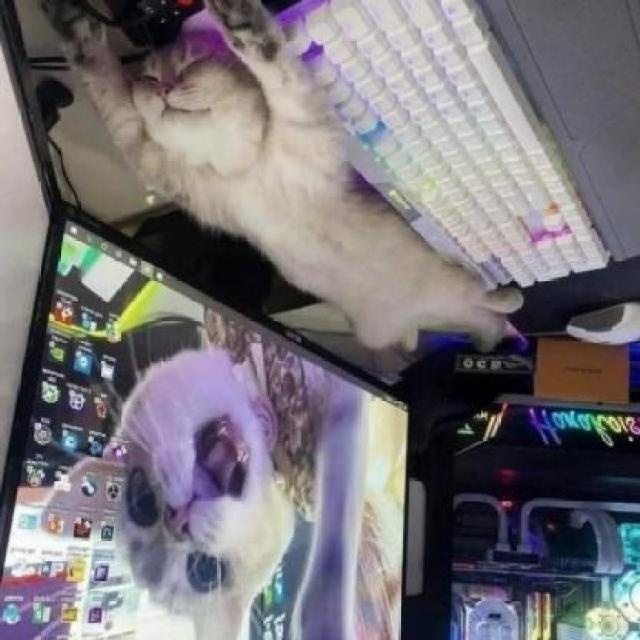cat: (58, 2, 330, 222), (94, 369, 337, 611)
